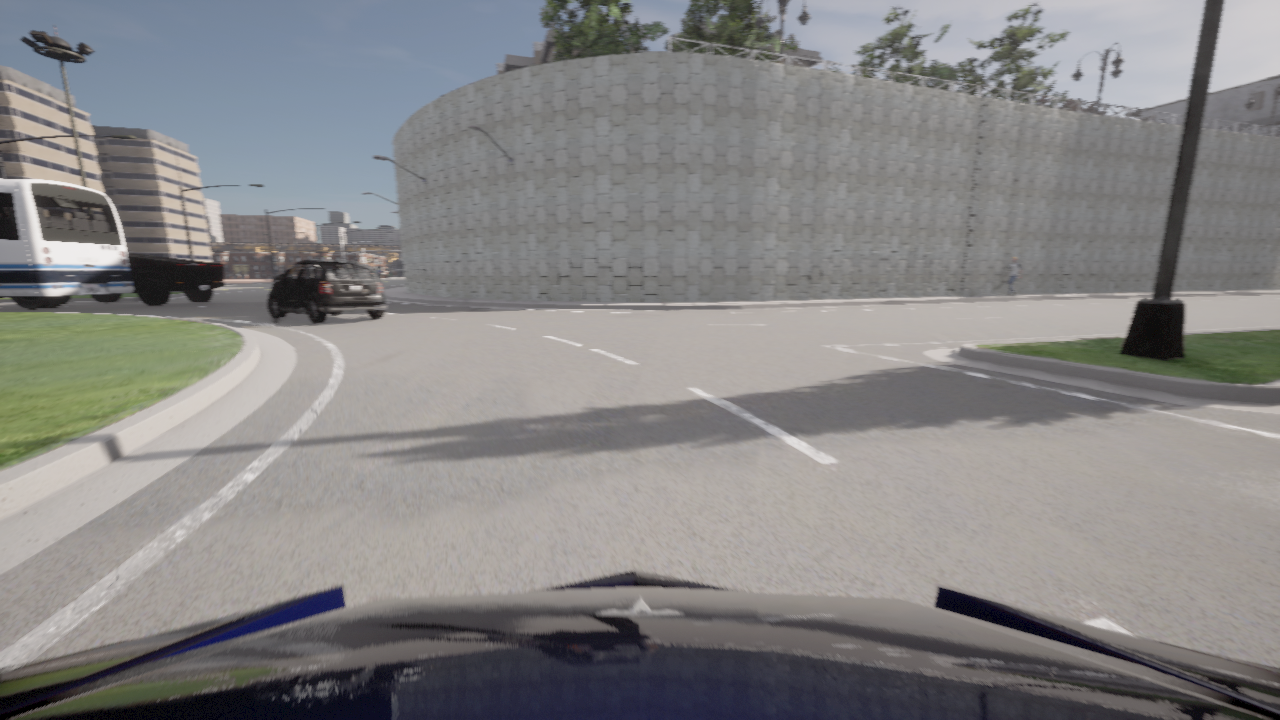cyclist: (0, 569, 1279, 719), (61, 253, 224, 305), (268, 261, 386, 323)
pedestrian: (1005, 257, 1021, 295)
